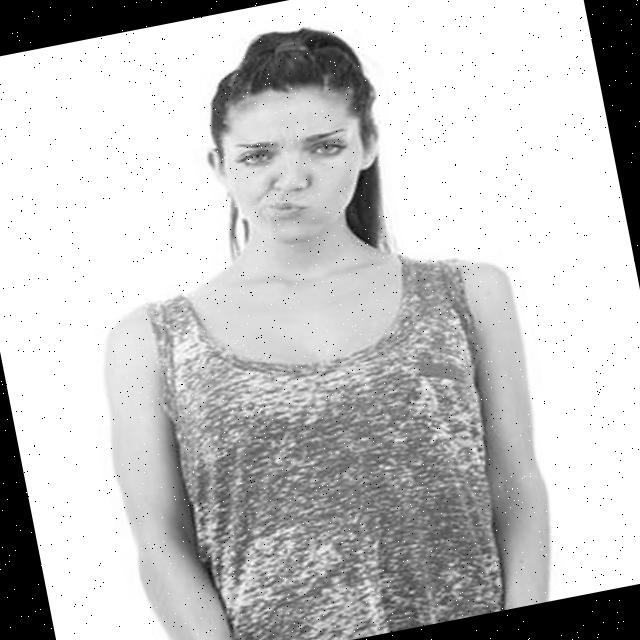Disgust: (215, 78, 382, 257)
